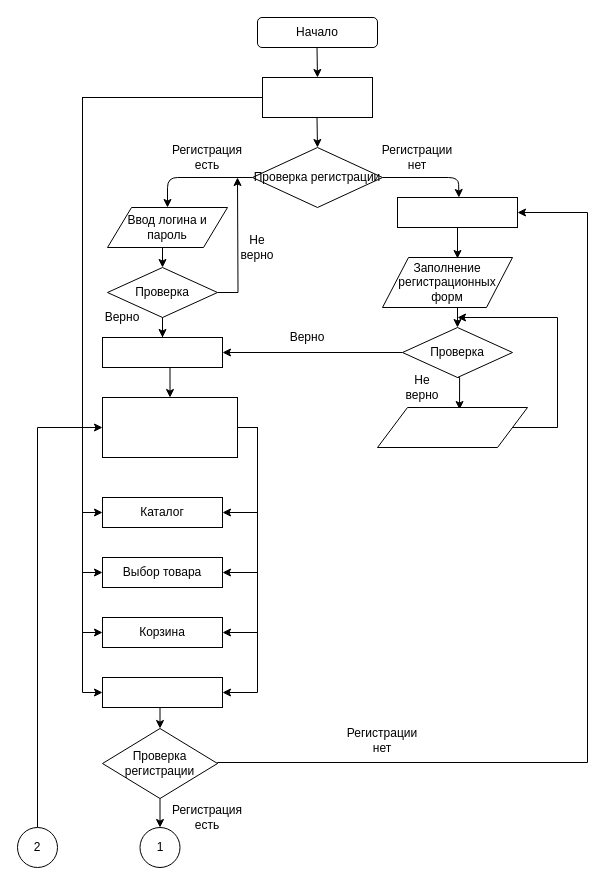
The diagram is 613 pixels wide and 885 high, and some of its shapes have lost their labels. Each missing label, with the box of its shape:
Главная страница: (262, 76, 372, 118)
Изменение данных: (376, 406, 528, 448)
Окно регистрации: (396, 196, 518, 228)
Основная страница зарегистрированного пользователя: (102, 396, 238, 458)
Оформление заказа: (102, 676, 222, 708)
Приветствие: (102, 336, 222, 368)
